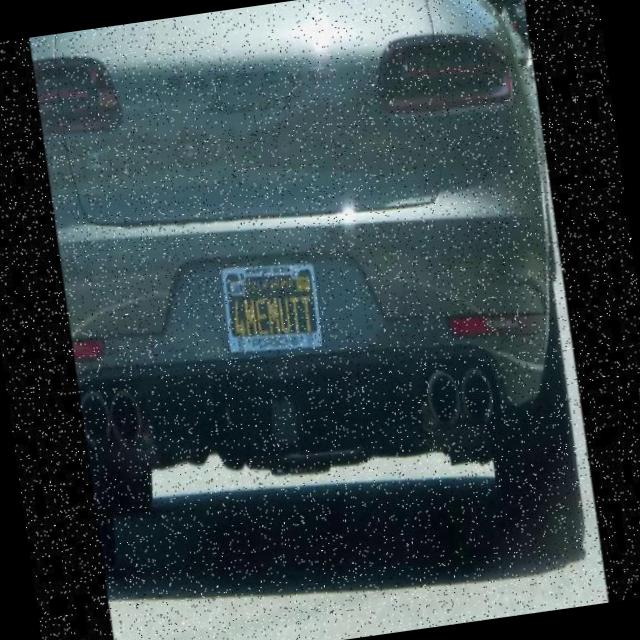LicensePlate: (222, 252, 331, 370)
